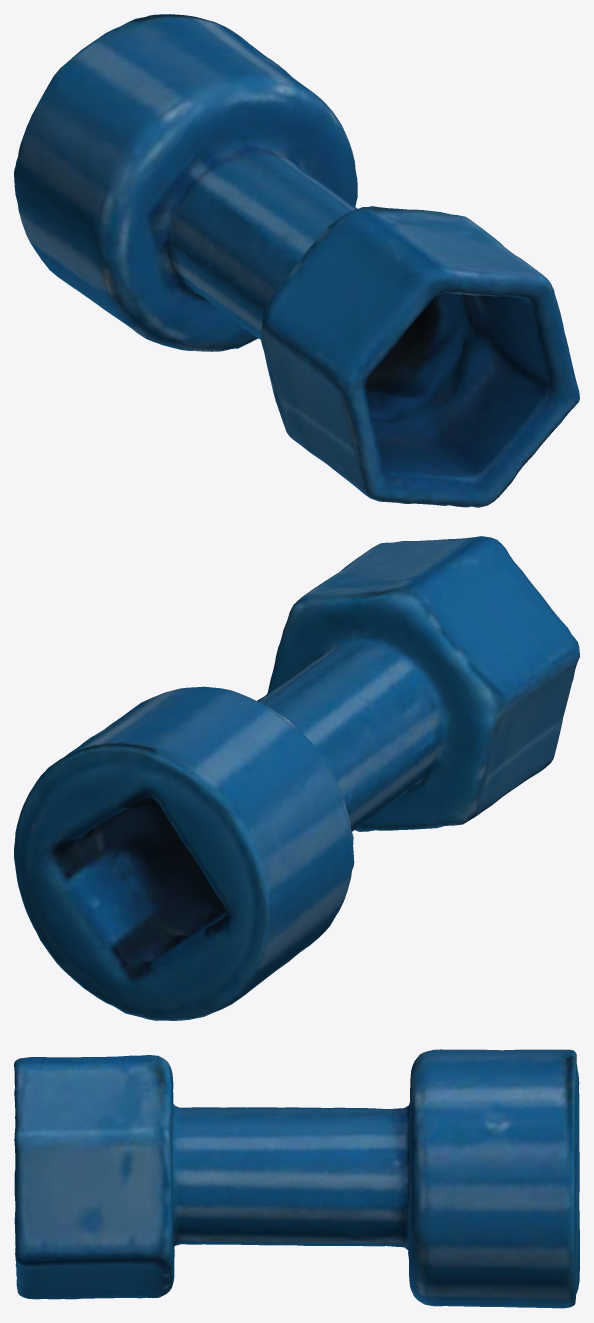
File: ddg-ycb_072-c_toy_airplane.glb
3 views of the same model, one above another, from view 1: azimuth 30°, elevation 25°; view 2: azimuth 150°, elevation 25°; view 3: azimuth 270°, elevation 25° (orthographic). The views are drawn at different scales.
Visible parts, largest first — view 1: textured(Clone); view 2: textured(Clone); view 3: textured(Clone).
Boxes of the visible parts, <box> form: textured(Clone): <box>14,14,579,507</box>; textured(Clone): <box>14,536,579,1020</box>; textured(Clone): <box>14,1049,579,1308</box>.
Bounding box in the file's own units: 0.8267 × 0.8267 × 1.8.
1 material, 1 textured.
